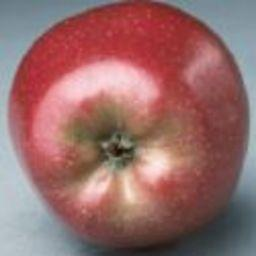apple: (4, 1, 248, 253)
